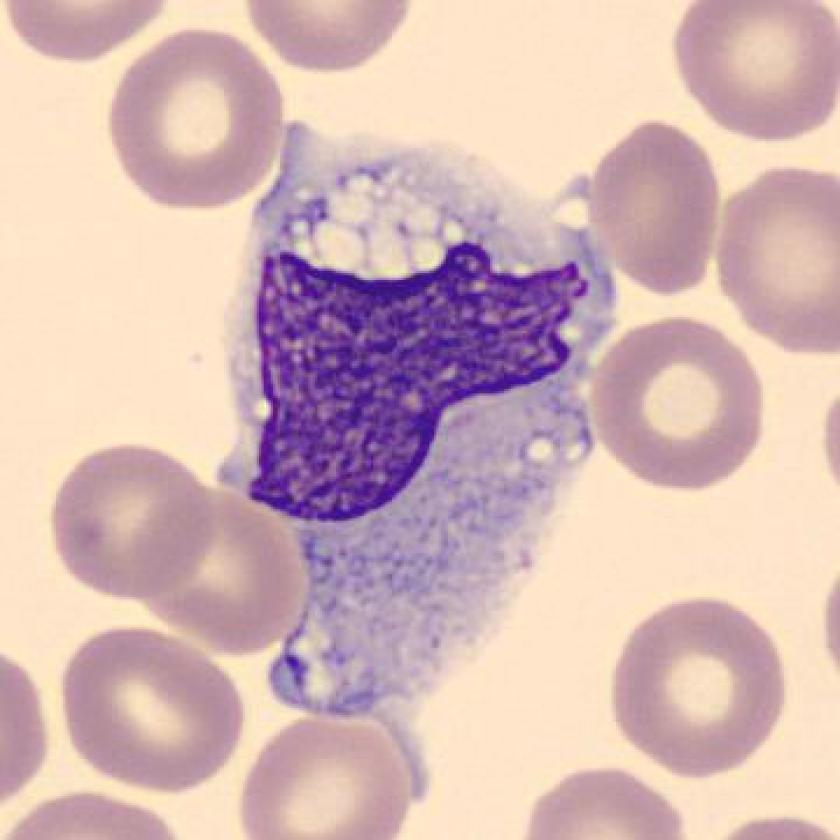monocyte: (199, 100, 636, 737)
